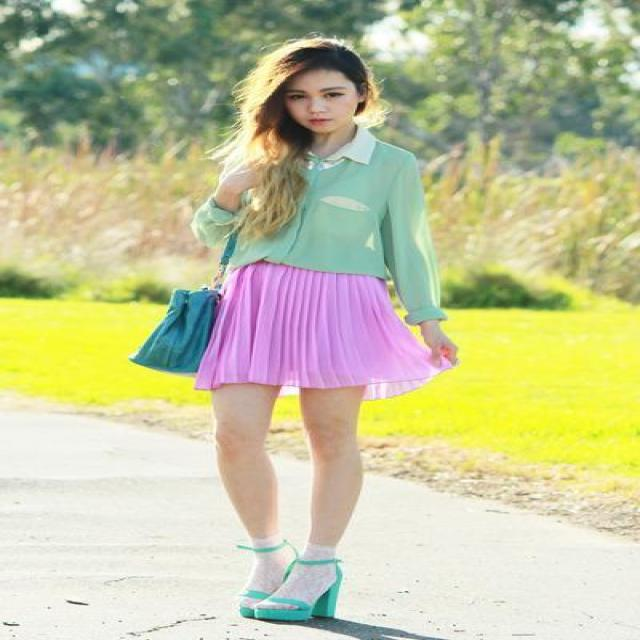bag: (134, 288, 254, 372)
shirt: (180, 129, 454, 328)
shoe: (240, 576, 341, 624)
skirt: (173, 263, 438, 400)
